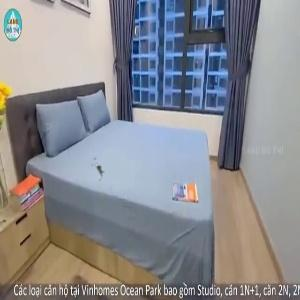drone: (55, 121, 145, 211)
